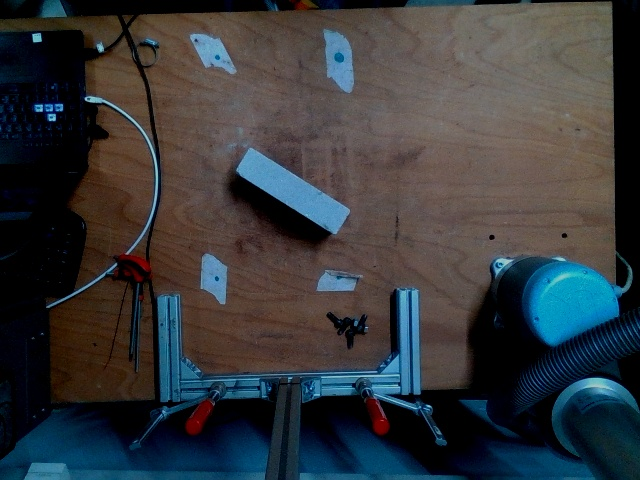brick-side: (236, 145, 351, 234)
